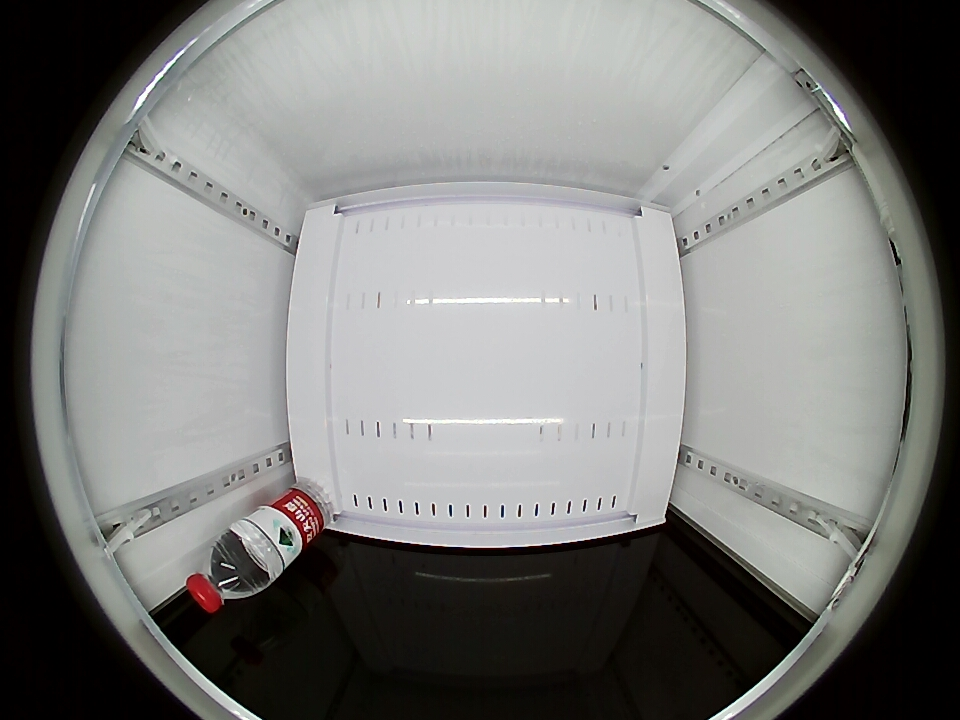nongfushanquan: (186, 537, 263, 613)
